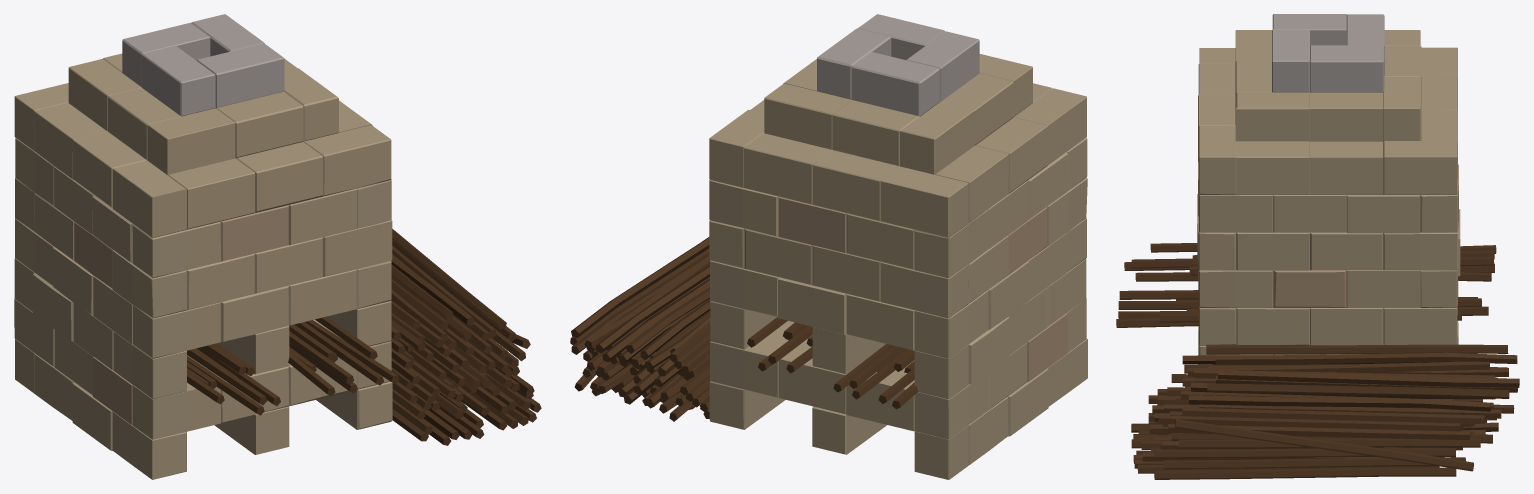
The model's file is brickOven.fbx.
3 views of the same model, side by side, from view 1: azimuth 30°, elevation 25°; view 2: azimuth 150°, elevation 25°; view 3: azimuth 270°, elevation 25° (orthographic). The views are drawn at different scales.
Parts seen in each view (by area): view 1: BrickKiln; view 2: BrickKiln; view 3: BrickKiln.
Part boxes in pixels (box(x1,y1,x2,y2)): BrickKiln: box(14, 14, 541, 479); BrickKiln: box(570, 14, 1087, 479); BrickKiln: box(1116, 14, 1519, 479).
Size of the model in its own units: 610 by 564 by 616.
